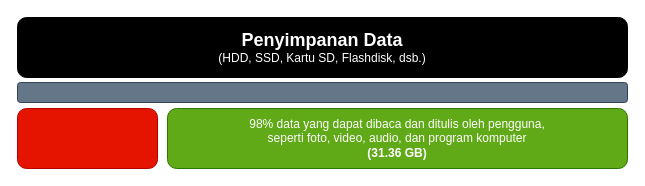
Image size: 645x186. Some labels were removed from this diagram. Each missing label, with the centre of its shape:
"2% Tabel Inode & Metadata Lain (640 MB)" goes at (87,138).
"32 GB Total Penyimpanan" goes at (322,92).
